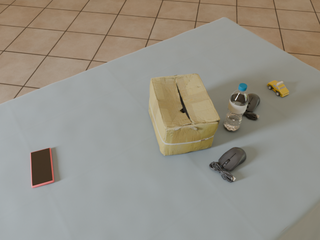bottle: (224, 83, 249, 131)
box: (149, 74, 220, 156)
mouse: (209, 147, 246, 182), (244, 94, 260, 120)
phone: (30, 148, 54, 188)
toy_car: (267, 81, 289, 97)
